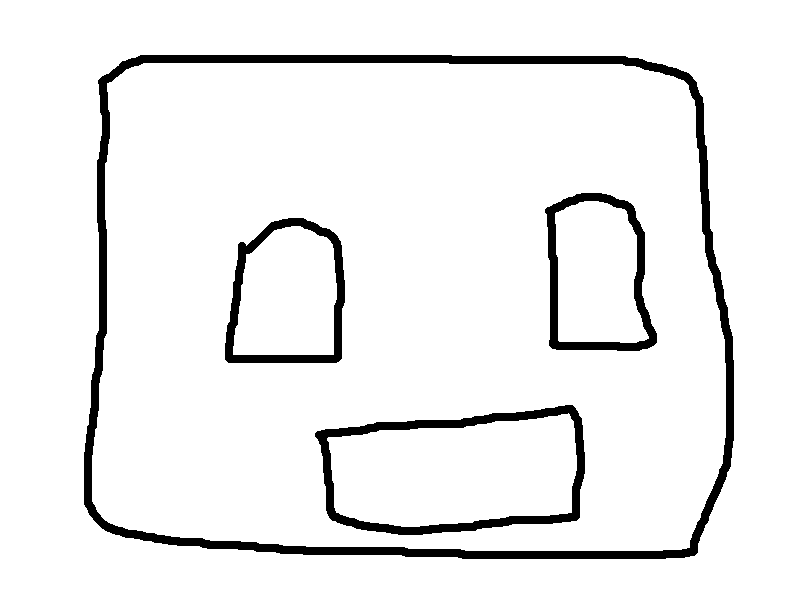rect: (77, 46, 743, 569), (315, 402, 590, 537), (543, 186, 661, 358), (222, 212, 348, 371)
